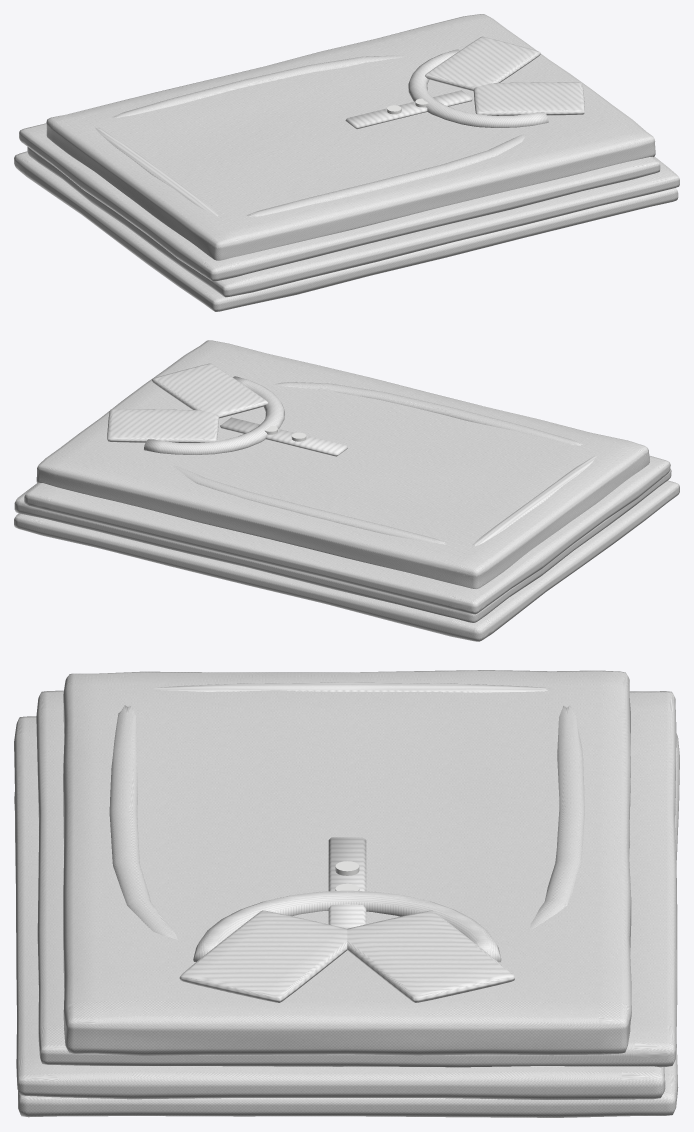
The model's file is polo.glb.
3 renders of one model, top to bottom at view 1: azimuth 30°, elevation 25°; view 2: azimuth 150°, elevation 25°; view 3: azimuth 270°, elevation 25°, orthographic. The views are drawn at different scales.
Parts seen in each view (by area): view 1: polo_layer, polo_fold2, polo_fold0, polo_fold1, polo_flap-1, polo_flap1, polo_band, polo_sleeve-1, polo_sleeve1, polo_placket, polo_hem; view 2: polo_layer, polo_fold2, polo_fold0, polo_fold1, polo_flap1, polo_flap-1, polo_band, polo_sleeve-1, polo_sleeve1, polo_placket, polo_hem; view 3: polo_layer, polo_fold2, polo_fold1, polo_fold0, polo_flap-1, polo_flap1, polo_sleeve-1, polo_band, polo_sleeve1, polo_hem, polo_placket.
Boxes of the visible parts, box(x1,y1,x2,y2) form: polo_layer: box(46, 14, 655, 260); polo_fold2: box(19, 123, 660, 281); polo_fold0: box(14, 151, 678, 311); polo_fold1: box(27, 147, 679, 297); polo_flap-1: box(473, 82, 584, 115); polo_flap1: box(425, 36, 540, 91); polo_band: box(408, 49, 548, 127); polo_sleeve-1: box(247, 134, 524, 217); polo_sleeve1: box(112, 55, 407, 118); polo_placket: box(345, 90, 472, 129); polo_hem: box(95, 127, 219, 216); polo_layer: box(36, 340, 649, 588); polo_fold2: box(24, 455, 670, 614); polo_fold0: box(14, 480, 679, 641); polo_fold1: box(14, 468, 671, 622); polo_flap1: box(107, 409, 219, 442); polo_flap-1: box(152, 363, 268, 418); polo_band: box(144, 376, 284, 454); polo_sleeve-1: box(273, 382, 583, 445); polo_sleeve1: box(174, 465, 447, 544); polo_placket: box(220, 417, 347, 456); polo_hem: box(472, 456, 596, 546); polo_layer: box(63, 670, 631, 1055); polo_fold2: box(36, 690, 676, 1067); polo_fold1: box(14, 716, 665, 1099); polo_fold0: box(14, 733, 679, 1117); polo_flap-1: box(179, 910, 347, 1002); polo_flap1: box(347, 910, 514, 1002); polo_sleeve-1: box(109, 705, 177, 939); polo_band: box(193, 890, 501, 962); polo_sleeve1: box(530, 705, 584, 929); polo_hem: box(152, 682, 549, 692); polo_placket: box(328, 837, 366, 928).
Bounding box in the file's own units: 28.26 × 3.96 × 21.19.
Materials: 3 (2 with a texture image).
